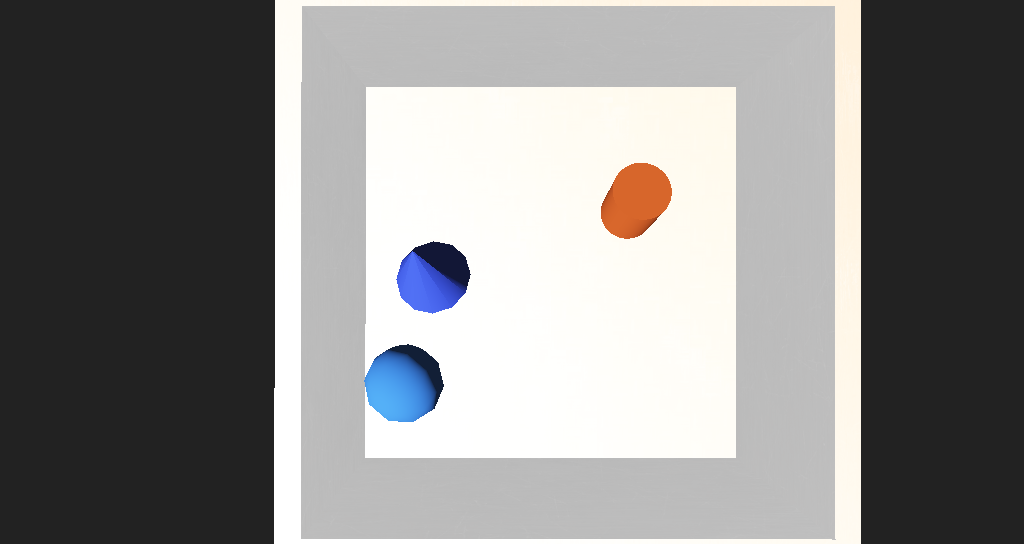cone: (546, 208, 600, 251)
cylinder: (357, 234, 438, 291)
sphere: (350, 313, 418, 356)
